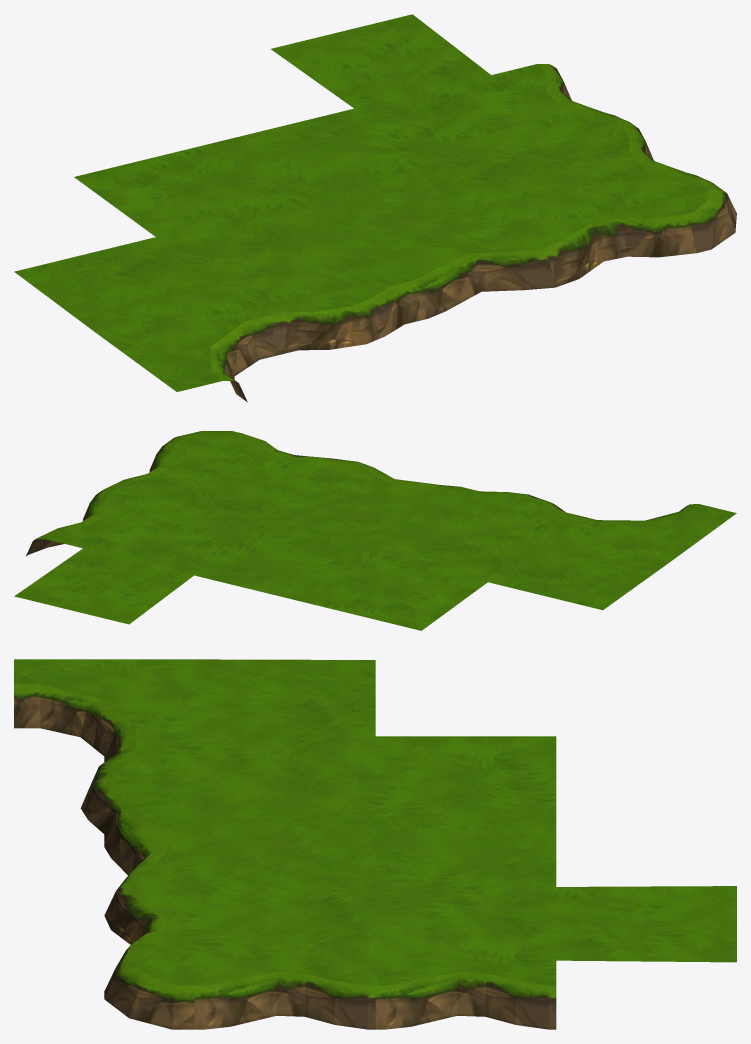
File: taijie.FBX
The picture shows the model from 3 angles, top to bottom: view 1: azimuth 30°, elevation 25°; view 2: azimuth 150°, elevation 25°; view 3: azimuth 270°, elevation 25°; orthographic projection. The views are drawn at different scales.
Visible parts, largest first — view 1: majorcity_chengbaodixing01, Object002; view 2: majorcity_chengbaodixing01, Object002; view 3: majorcity_chengbaodixing01, Object002.
Boxes of the visible parts, x1,y1,x2,y2 form: majorcity_chengbaodixing01: (14,14,709,391); Object002: (210,64,736,402); majorcity_chengbaodixing01: (14,433,736,630); Object002: (26,431,698,556); majorcity_chengbaodixing01: (14,659,736,985); Object002: (14,684,556,1029).
Bounding box in the file's own units: 202 × 8.54 × 182.
